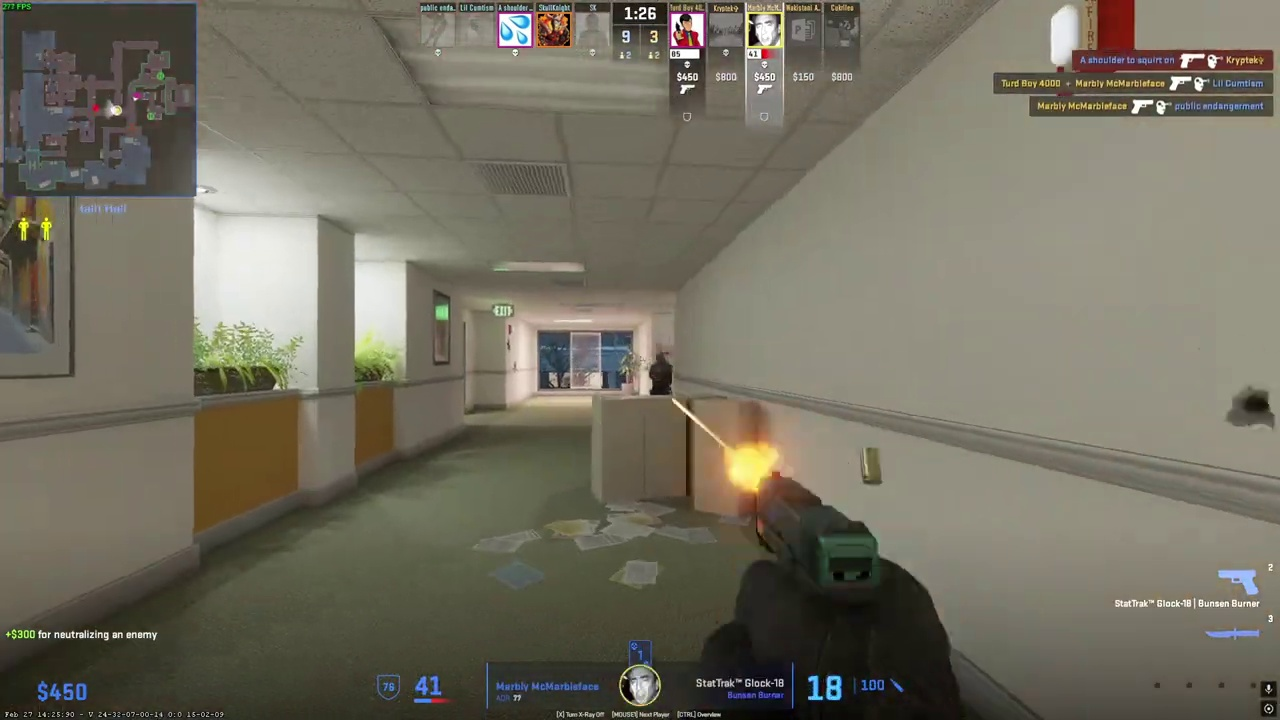CT: (649, 352, 673, 395)
